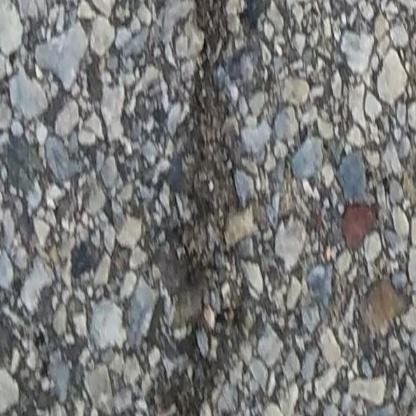Cracks: (172, 0, 248, 416)
